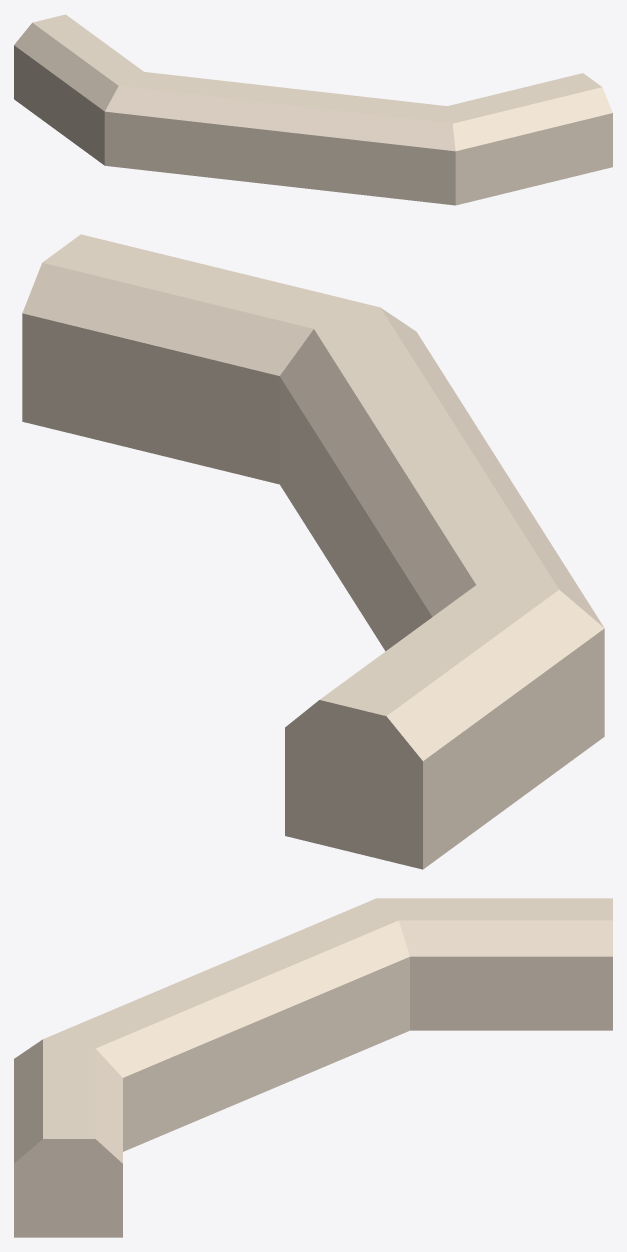
The model's file is Wall_Curved_Small_Coping.glb.
3 views of the same model, one above another, from view 1: azimuth 30°, elevation 25°; view 2: azimuth 150°, elevation 25°; view 3: azimuth 270°, elevation 25° (orthographic). The views are drawn at different scales.
Parts seen in each view (by area): view 1: Wall_Curved_Small_Coping; view 2: Wall_Curved_Small_Coping; view 3: Wall_Curved_Small_Coping.
Boxes of the visible parts, x1,y1,x2,y2 form: Wall_Curved_Small_Coping: [14, 14, 612, 205]; Wall_Curved_Small_Coping: [22, 234, 604, 869]; Wall_Curved_Small_Coping: [14, 898, 612, 1237].
Size of the model in its own units: 0.495 by 0.09 by 0.495.
